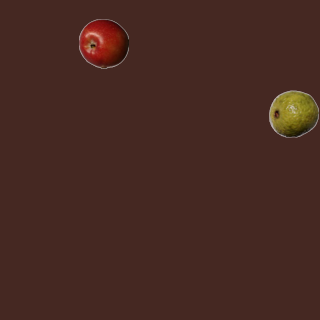Apple Braeburn: (78, 18, 128, 68)
Guava: (268, 88, 318, 138)
